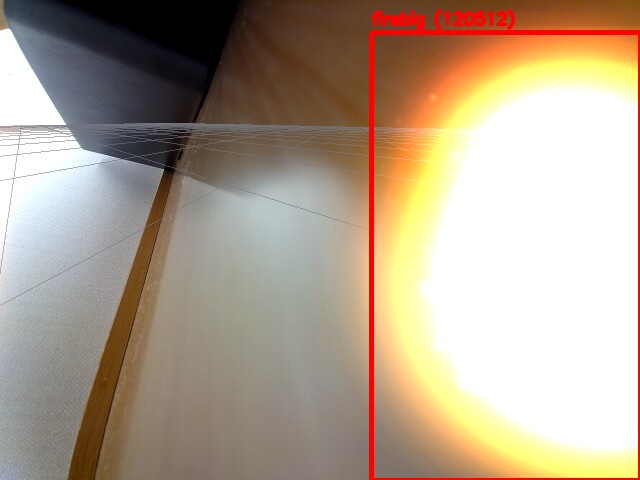firebig: (371, 32, 640, 480)
